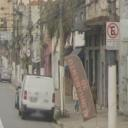NoEstacionar: (105, 20, 121, 42)
